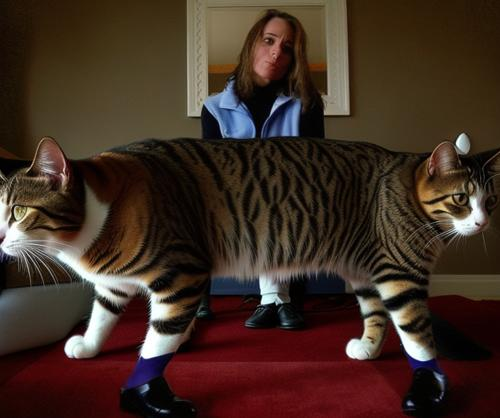cat: (1, 134, 500, 362)
person: (118, 8, 450, 418)
person/foot: (119, 379, 195, 417), (402, 368, 450, 413)
person/hand: (256, 243, 277, 312), (275, 244, 296, 312)
person/head: (250, 13, 298, 79)
